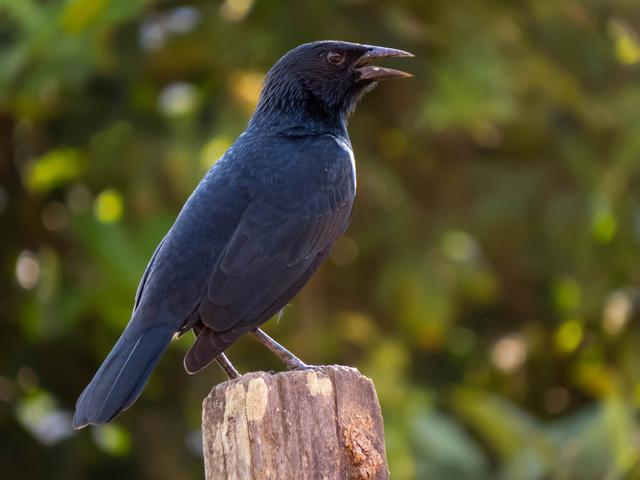grauna: (69, 37, 419, 442)
